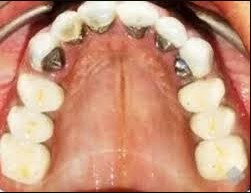UL1BC_healthy: (18, 72, 65, 111)
UL1M_healthy: (1, 136, 51, 184)
UL2BC_healthy: (7, 106, 55, 143)
ULCI_decay: (78, 1, 117, 35)
ULC_decay: (29, 33, 67, 72)
ULLI_decay: (54, 11, 84, 45)
UR1BC_healthy: (180, 79, 227, 111)
UR1M_healthy: (197, 139, 249, 180)
UR2BC_healthy: (190, 110, 236, 137)
URCI_decay: (118, 1, 157, 40)
URC_decay: (177, 39, 212, 79)
URLI_decay: (155, 17, 187, 50)
